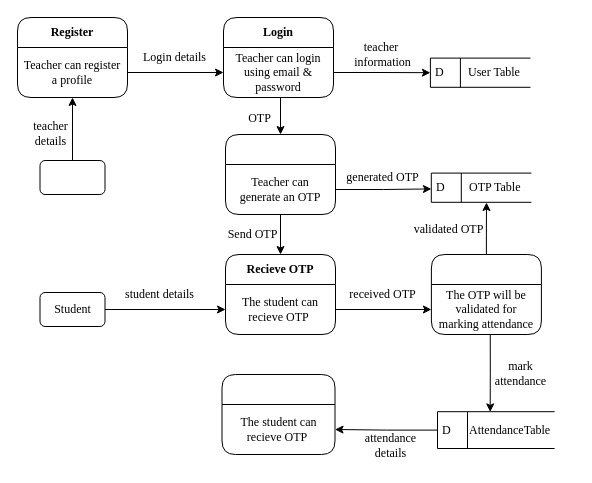
This 592x483 diagram has some shape labels left out. The box of each missing label's shape, as (x1, y1, x2, y2) in pixels:
Enter OTP: (430, 254, 541, 334)
Generate OTP: (224, 134, 336, 214)
Generate Report: (221, 374, 335, 454)
Teacher: (39, 160, 105, 194)
